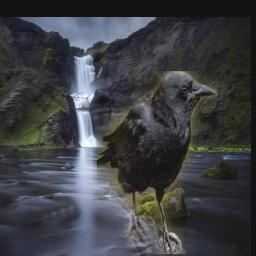Crow: (97, 72, 217, 255)
